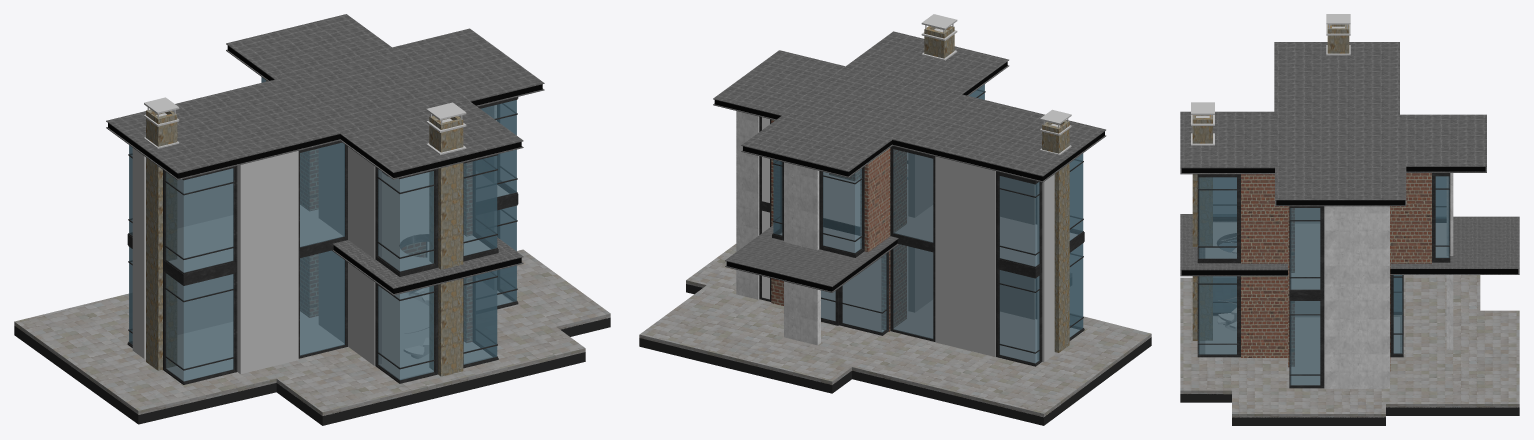
3 renders of one model, left to right at view 1: azimuth 30°, elevation 25°; view 2: azimuth 150°, elevation 25°; view 3: azimuth 270°, elevation 25°, orthographic. The views are drawn at different scales.
Parts seen in each view (by area): view 1: Line022, Line024, Box003, Object001_24 - Default_0, Object003_24 - Default_0, Box007, Rectangle003, Line026, Line025, Box004, Line027, Box002 (+15 smaller); view 2: Line022, Line024, Box001, Rectangle002, Object002_24 - Default_0, Box008, Line026, Box009, Line027, Line023, Line025, Box002 (+19 smaller); view 3: Line022, Line024, Line001, Box005, Object004_24 - Default_0, Line023, Object005_24 - Default_0, Box021, Box004, Line027, Line025, Line026 (+15 smaller).
Boxes of the visible parts, <box> form: Line022: <box>106,14,544,180</box>; Line024: <box>14,249,610,415</box>; Box003: <box>237,151,298,374</box>; Object001_24 - Default_0: <box>166,168,233,381</box>; Object003_24 - Default_0: <box>378,169,433,380</box>; Box007: <box>319,143,381,365</box>; Rectangle003: <box>300,142,344,355</box>; Line026: <box>167,287,510,380</box>; Line025: <box>169,172,508,272</box>; Box004: <box>429,116,463,376</box>; Line027: <box>14,317,610,425</box>; Box002: <box>146,109,177,370</box>; Line022: <box>713,31,1106,182</box>; Line024: <box>639,244,1151,417</box>; Box001: <box>935,156,995,356</box>; Rectangle002: <box>893,149,933,338</box>; Object002_24 - Default_0: <box>999,176,1039,363</box>; Box008: <box>860,148,906,331</box>; Line026: <box>821,246,1079,362</box>; Box009: <box>784,162,820,345</box>; Line027: <box>639,284,1151,425</box>; Line023: <box>725,160,907,292</box>; Line025: <box>780,152,1077,265</box>; Box002: <box>1042,120,1069,352</box>; Line022: <box>1180,42,1486,206</box>; Line024: <box>1180,275,1519,417</box>; Line001: <box>1324,206,1389,388</box>; Box005: <box>1241,174,1287,357</box>; Object004_24 - Default_0: <box>1198,177,1236,354</box>; Line023: <box>1180,214,1519,276</box>; Object005_24 - Default_0: <box>1290,208,1320,385</box>; Box021: <box>1390,173,1431,371</box>; Box004: <box>1192,115,1212,340</box>; Line027: <box>1180,394,1519,425</box>; Line025: <box>1205,222,1448,289</box>; Line026: <box>1205,316,1399,384</box>.
Size of the model in its own units: 13.25 by 7.58 by 9.69.
